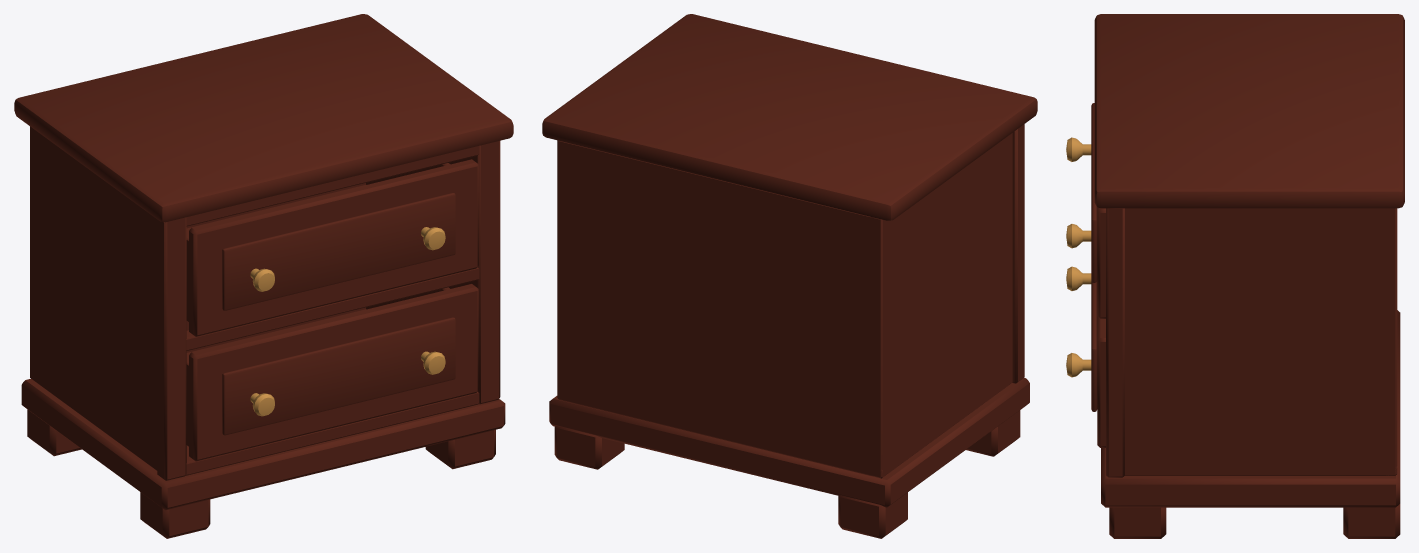
Rendered from Nightstand.glb.
3 renders of one model, left to right at view 1: azimuth 30°, elevation 25°; view 2: azimuth 150°, elevation 25°; view 3: azimuth 270°, elevation 25°, orthographic. The views are drawn at different scales.
Parts seen in each view (by area): view 1: Nightstand_Body, Nightstand_Drawer2, Nightstand_Drawer1, Nightstand_Drawer1_Knobs, Nightstand_Drawer2_Knobs; view 2: Nightstand_Body; view 3: Nightstand_Body, Nightstand_Drawer2, Nightstand_Drawer1, Nightstand_Drawer1_Knobs, Nightstand_Drawer2_Knobs.
Part boxes in pixels (x1,y1,x2,y2): Nightstand_Body: (14, 14, 513, 538); Nightstand_Drawer2: (186, 284, 478, 461); Nightstand_Drawer1: (186, 159, 478, 336); Nightstand_Drawer1_Knobs: (250, 227, 445, 291); Nightstand_Drawer2_Knobs: (250, 351, 445, 416); Nightstand_Body: (542, 14, 1037, 538); Nightstand_Body: (1094, 14, 1404, 538); Nightstand_Drawer2: (1091, 281, 1105, 447); Nightstand_Drawer1: (1091, 103, 1105, 318); Nightstand_Drawer1_Knobs: (1066, 137, 1091, 248); Nightstand_Drawer2_Knobs: (1066, 266, 1091, 377).
Size of the model in its own units: 0.67 by 0.62 by 0.535.
